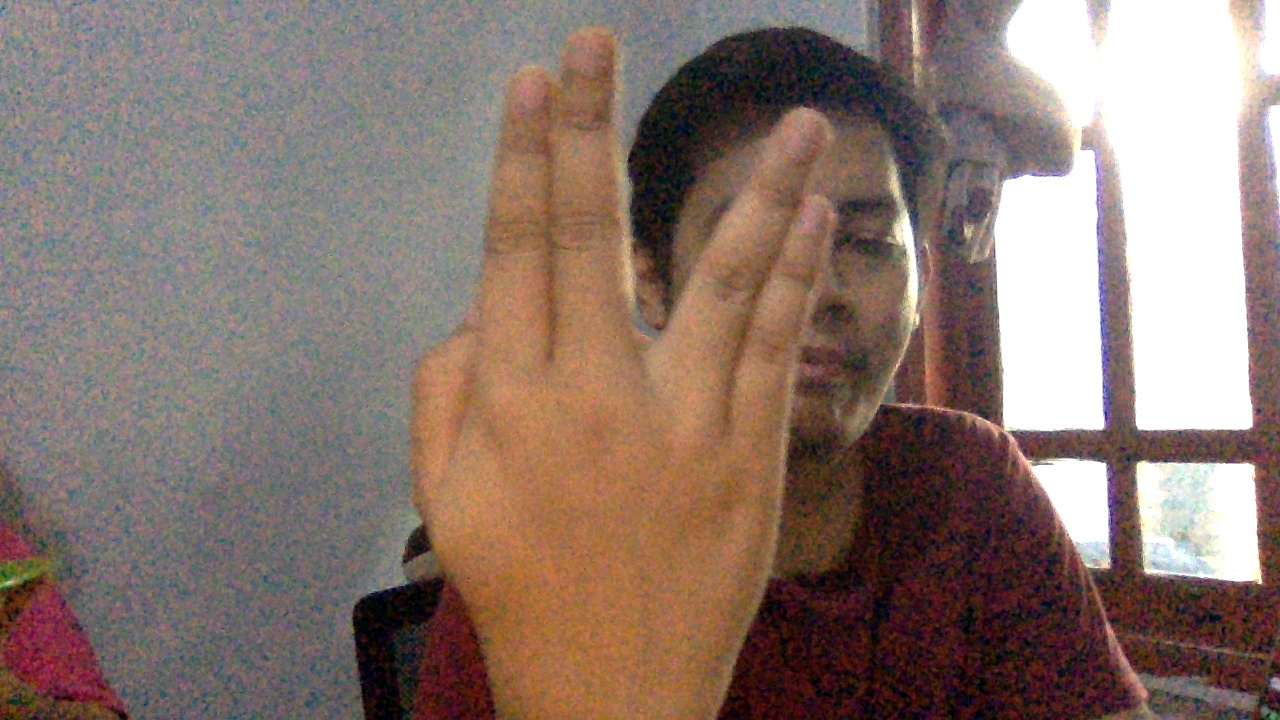livelong: (367, 7, 856, 714)
